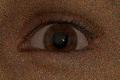eye: (44, 25, 78, 54)
